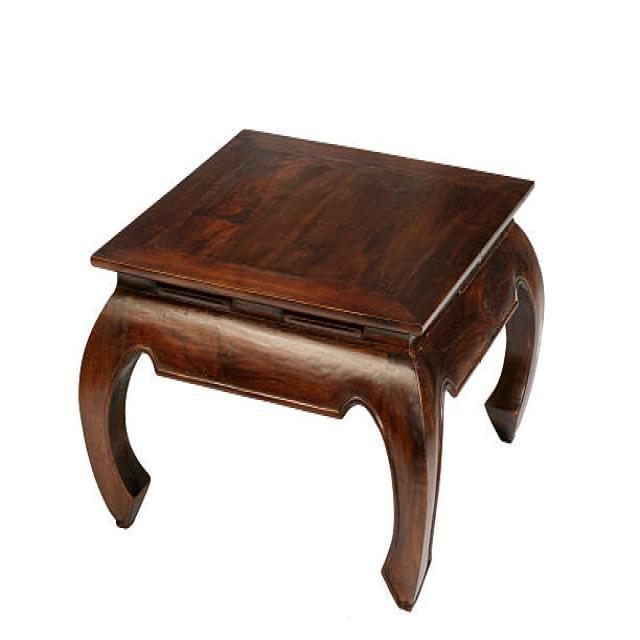table: (77, 124, 545, 612)
